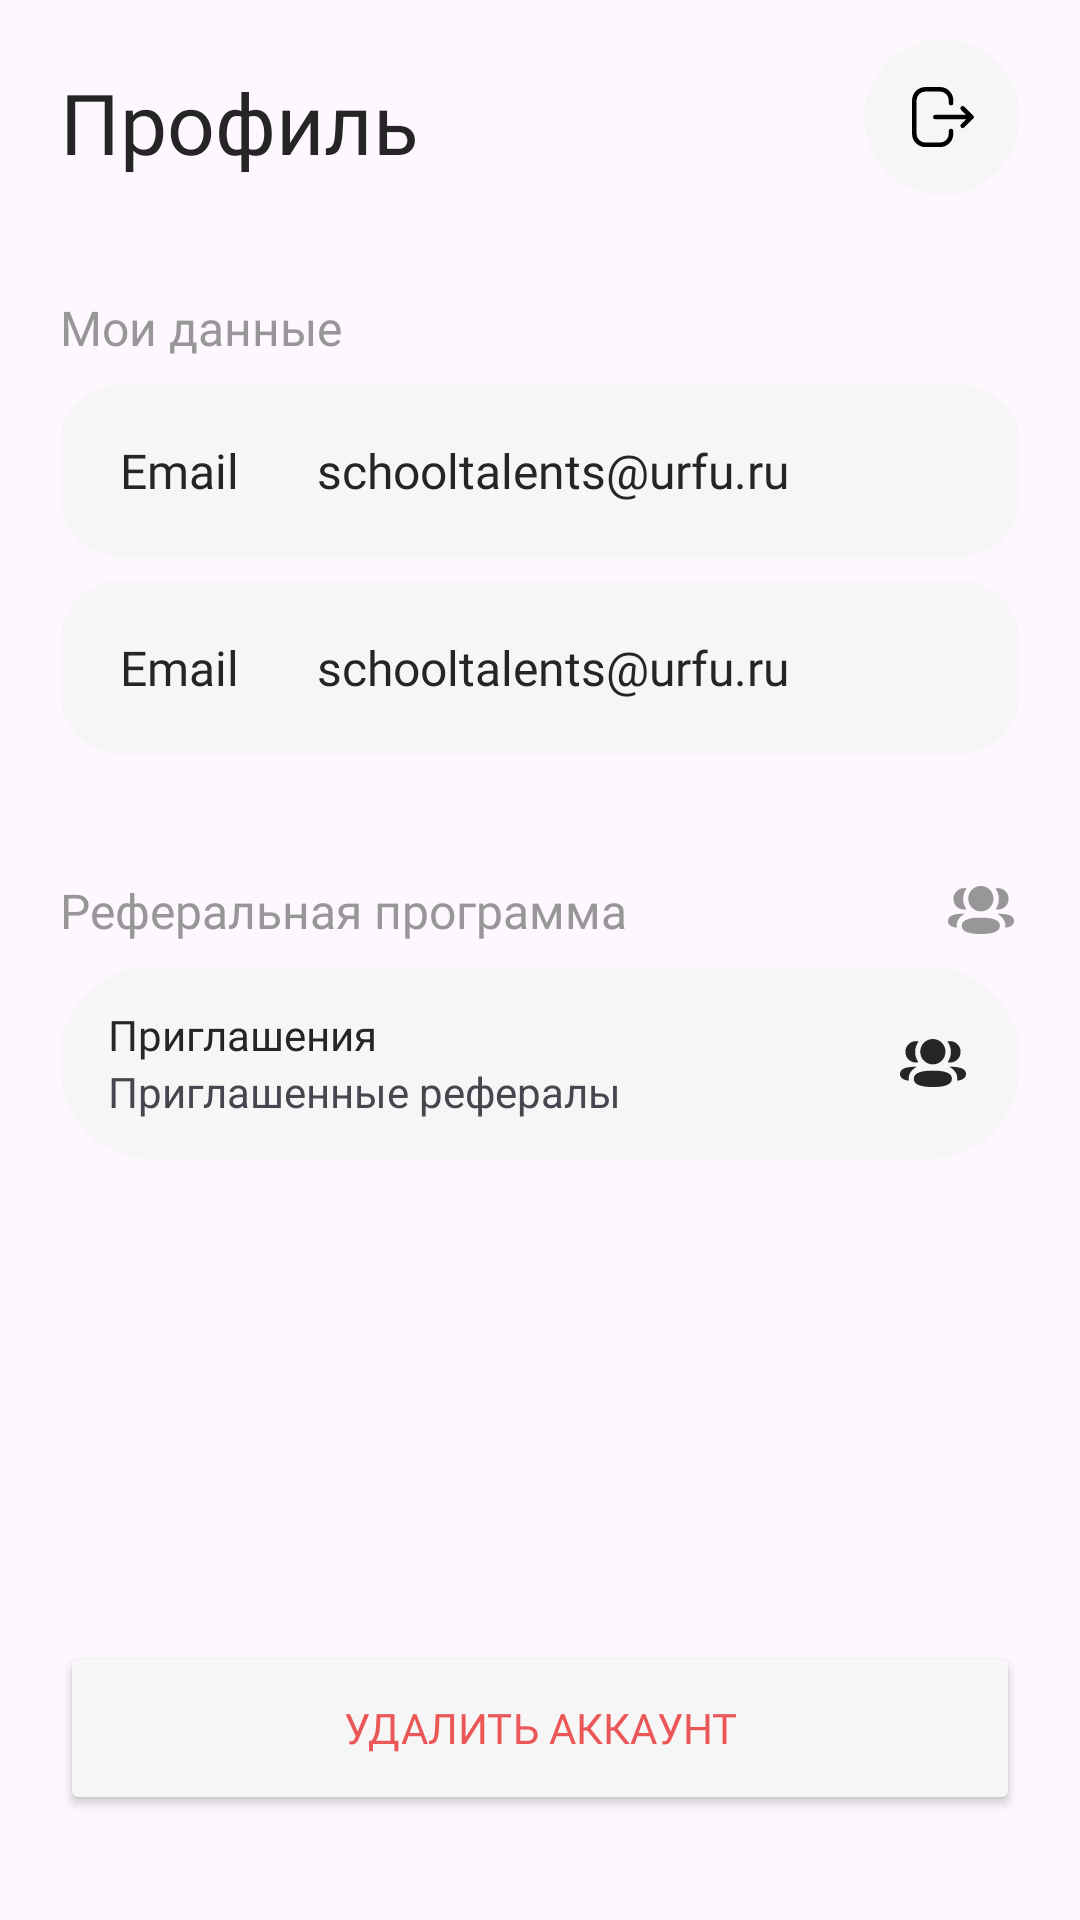

Named icons in this screenshot (1080px x 1920px) and their bounding boxes, (x1, y1, x2, y2):
log out: (864, 39, 1020, 195)
users: (948, 886, 1014, 934), (900, 1039, 966, 1087)
